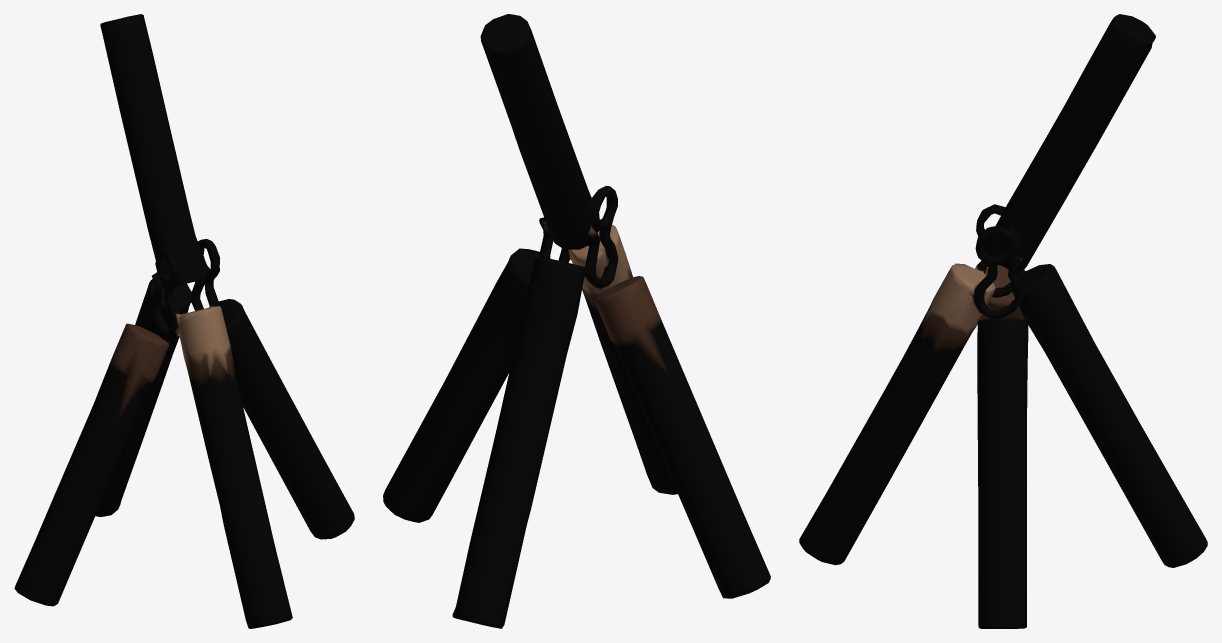
File: gen3d-nunchaku-lod0.glb
3 views of the same model, side by side, from view 1: azimuth 30°, elevation 25°; view 2: azimuth 150°, elevation 25°; view 3: azimuth 270°, elevation 25° (orthographic). The views are drawn at different scales.
Parts seen in each view (by area): view 1: part_0; view 2: part_0; view 3: part_0.
Boxes of the visible parts, box(x1,y1,x2,y2) form: part_0: box(14, 14, 354, 628); part_0: box(383, 14, 770, 628); part_0: box(799, 14, 1207, 628).
Bounding box in the file's own units: 0.6767 × 0.9986 × 0.6784.
